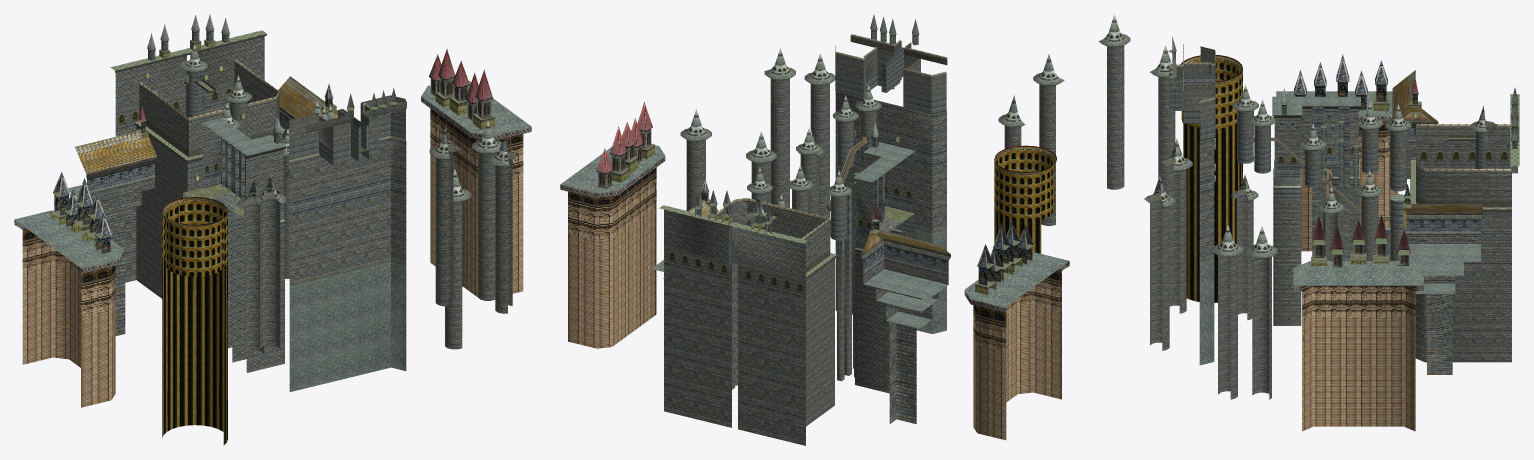
The model's file is Hang Castle 3.fbx.
3 views of the same model, side by side, from view 1: azimuth 30°, elevation 25°; view 2: azimuth 150°, elevation 25°; view 3: azimuth 270°, elevation 25° (orthographic). The views are drawn at different scales.
Visible parts, largest first — view 1: Object_2.005; view 2: Object_2.005; view 3: Object_2.005, Object_2.004.
Boxes of the visible parts, box(x1,y1,x2,y2) form: Object_2.005: box(14, 14, 531, 445); Object_2.005: box(560, 15, 1069, 445); Object_2.005: box(1099, 14, 1519, 431); Object_2.004: box(1253, 137, 1410, 229).
Bounding box in the file's own units: 905000 × 617360 × 740986.
